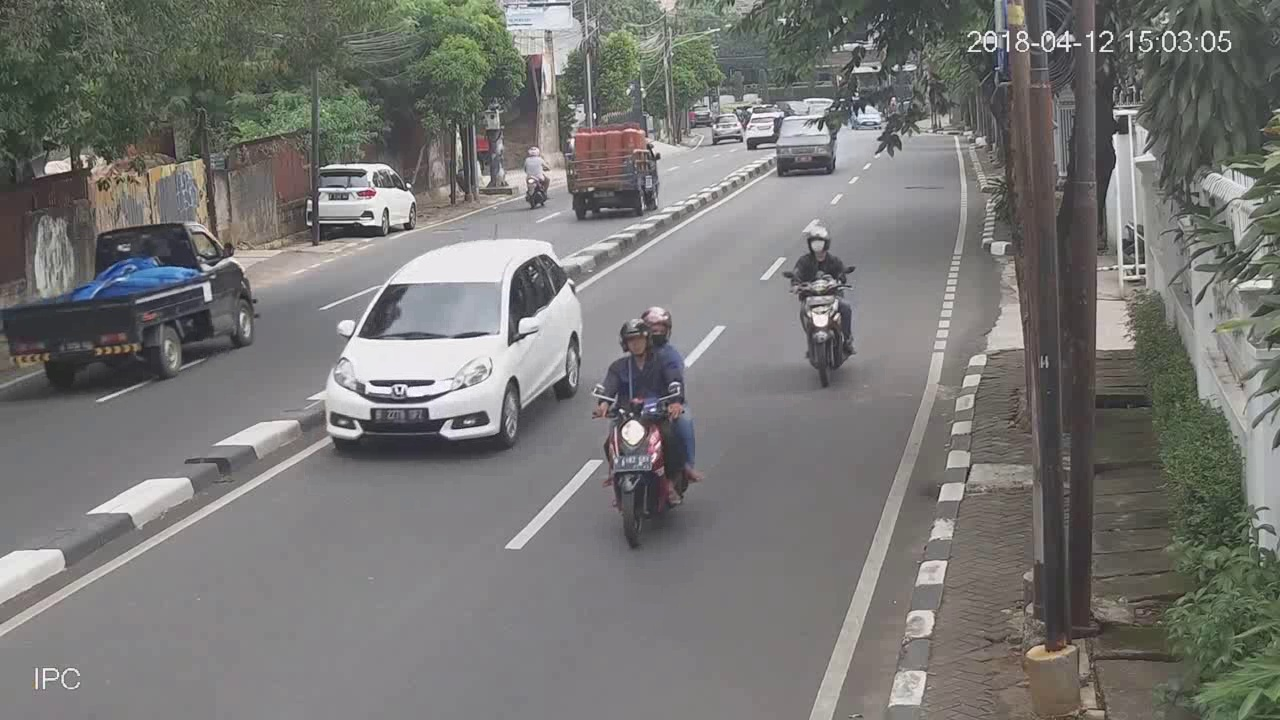car: (324, 235, 585, 455), (304, 159, 420, 239), (773, 115, 838, 174)
motorcycle: (590, 304, 704, 552), (781, 221, 862, 390), (519, 144, 553, 210)
truck: (2, 219, 258, 379), (562, 124, 660, 220)
